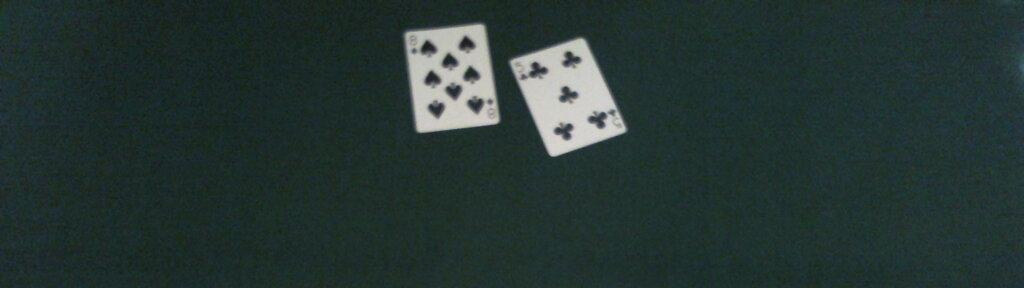eight: (402, 22, 501, 132)
five: (508, 37, 628, 158)
